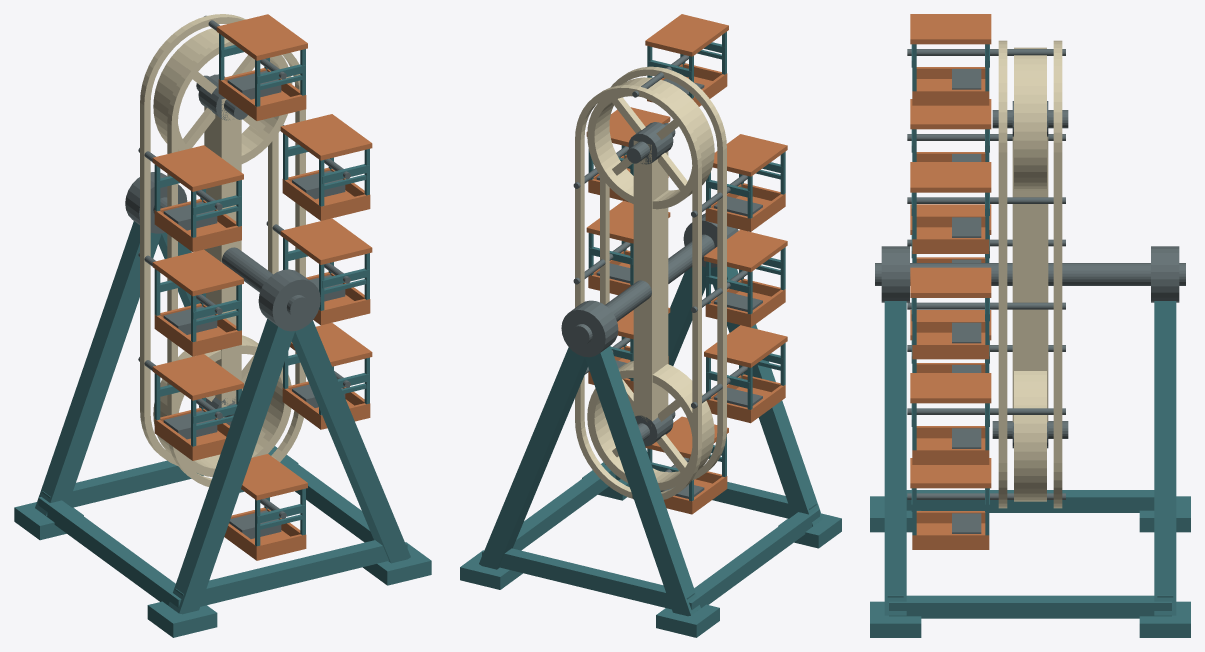
The picture shows the model from 3 angles, left to right: view 1: azimuth 30°, elevation 25°; view 2: azimuth 150°, elevation 25°; view 3: azimuth 270°, elevation 25°; orthographic projection. The views are drawn at different scales.
Parts seen in each view (by area): view 1: FrontWholeRakingCarrierSupport_0, RearWholeRakingCarrierSupport_0, FrontWholeRakingCarrierSupport_1, WholeClosedStraightRunGuideBand_1, WholeClosedStraightRunGuideBand_0, FrontWholeLowFrameTie, WholeFootCrossTie_-1.02, WholeLongRigidCarrierSpine, WholeOpenEndWheelRim_1, WholeOpenEndWheelRim_0, RearWholeLowFrameTie, Cabin01_WholeRoof (+29 smaller); view 2: WholeLongRigidCarrierSpine, WholeClosedStraightRunGuideBand_1, RearWholeRakingCarrierSupport_0, WholeClosedStraightRunGuideBand_0, RearWholeRakingCarrierSupport_1, WholeOpenEndWheelRim_1, WholeOpenEndWheelRim_0, FrontWholeRakingCarrierSupport_0, RearWholeLowFrameTie, WholeFootCrossTie_-1.02, WholeFootCrossTie_1.02, WholeContinuousCentralAxle (+22 smaller); view 3: FrontWholeRakingCarrierSupport_1, RearWholeRakingCarrierSupport_1, WholeLongRigidCarrierSpine, WholeFootCrossTie_1.02, WholeClosedStraightRunGuideBand_0, WholeClosedStraightRunGuideBand_1, WholeOpenEndWheelRim_1, WholeOpenEndWheelRim_0, WholeFootCrossTie_-1.02, WholeContinuousCentralAxle, Cabin01_WholeRoof, Cabin00_WholeRoof (+32 smaller).
Part boxes in pixels (bbox=[...]): FrontWholeRakingCarrierSupport_0: bbox=[168, 319, 294, 614]; RearWholeRakingCarrierSupport_0: bbox=[35, 221, 161, 516]; FrontWholeRakingCarrierSupport_1: bbox=[291, 320, 410, 563]; WholeClosedStraightRunGuideBand_1: bbox=[140, 14, 278, 466]; WholeClosedStraightRunGuideBand_0: bbox=[167, 38, 305, 486]; FrontWholeLowFrameTie: bbox=[175, 540, 388, 606]; WholeFootCrossTie_-1.02: bbox=[38, 497, 181, 607]; WholeLongRigidCarrierSpine: bbox=[204, 98, 241, 417]; WholeOpenEndWheelRim_1: bbox=[153, 28, 292, 163]; WholeOpenEndWheelRim_0: bbox=[153, 335, 291, 476]; RearWholeLowFrameTie: bbox=[42, 460, 203, 507]; Cabin01_WholeRoof: bbox=[280, 114, 372, 160]; WholeLongRigidCarrierSpine: bbox=[633, 140, 668, 425]; WholeClosedStraightRunGuideBand_1: bbox=[575, 85, 701, 499]; RearWholeRakingCarrierSupport_0: bbox=[585, 345, 700, 616]; WholeClosedStraightRunGuideBand_0: bbox=[600, 66, 726, 480]; RearWholeRakingCarrierSupport_1: bbox=[479, 347, 587, 569]; WholeOpenEndWheelRim_1: bbox=[587, 77, 714, 209]; WholeOpenEndWheelRim_0: bbox=[587, 361, 714, 490]; FrontWholeRakingCarrierSupport_0: bbox=[711, 266, 822, 526]; RearWholeLowFrameTie: bbox=[499, 548, 694, 609]; WholeFootCrossTie_-1.02: bbox=[689, 508, 819, 609]; WholeFootCrossTie_1.02: bbox=[482, 463, 615, 555]; WholeContinuousCentralAxle: bbox=[571, 234, 714, 345]; FrontWholeRakingCarrierSupport_1: bbox=[884, 301, 906, 615]; RearWholeRakingCarrierSupport_1: bbox=[1154, 301, 1176, 615]; WholeLongRigidCarrierSpine: bbox=[1012, 136, 1048, 422]; WholeFootCrossTie_1.02: bbox=[889, 595, 1171, 618]; WholeClosedStraightRunGuideBand_0: bbox=[998, 40, 1007, 508]; WholeClosedStraightRunGuideBand_1: bbox=[1053, 40, 1062, 508]; WholeOpenEndWheelRim_1: bbox=[1014, 47, 1046, 190]; WholeOpenEndWheelRim_0: bbox=[1014, 371, 1046, 501]; WholeFootCrossTie_-1.02: bbox=[906, 490, 1154, 512]; WholeContinuousCentralAxle: bbox=[875, 263, 1185, 285]; Cabin01_WholeRoof: bbox=[910, 162, 991, 192]; Cabin00_WholeRoof: bbox=[910, 14, 991, 44].
Size of the model in its own units: 1.85 by 3.7 by 1.97.
